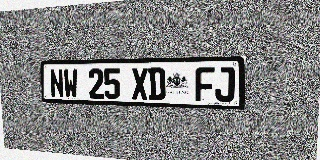2: (89, 68, 104, 99)
5: (104, 68, 120, 99)
D: (148, 68, 166, 100)
F: (195, 67, 214, 102)
J: (215, 67, 235, 102)
N: (49, 69, 64, 98)
W: (63, 69, 78, 98)
X: (131, 68, 148, 100)
